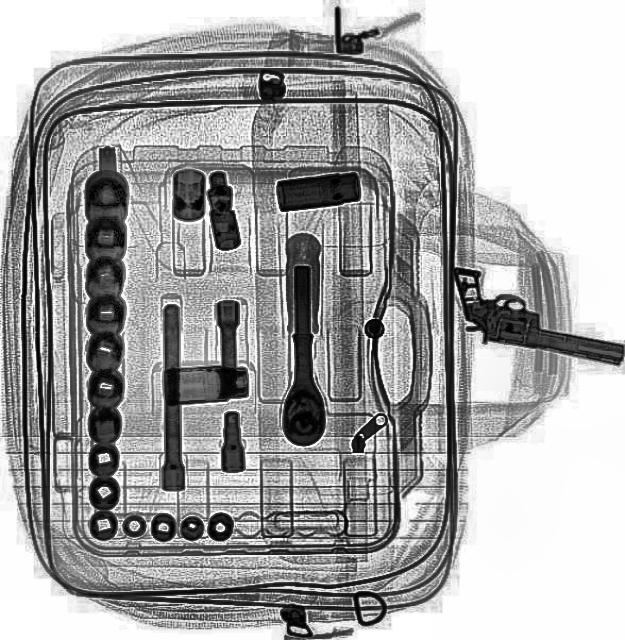Gun: (436, 264, 624, 366)
